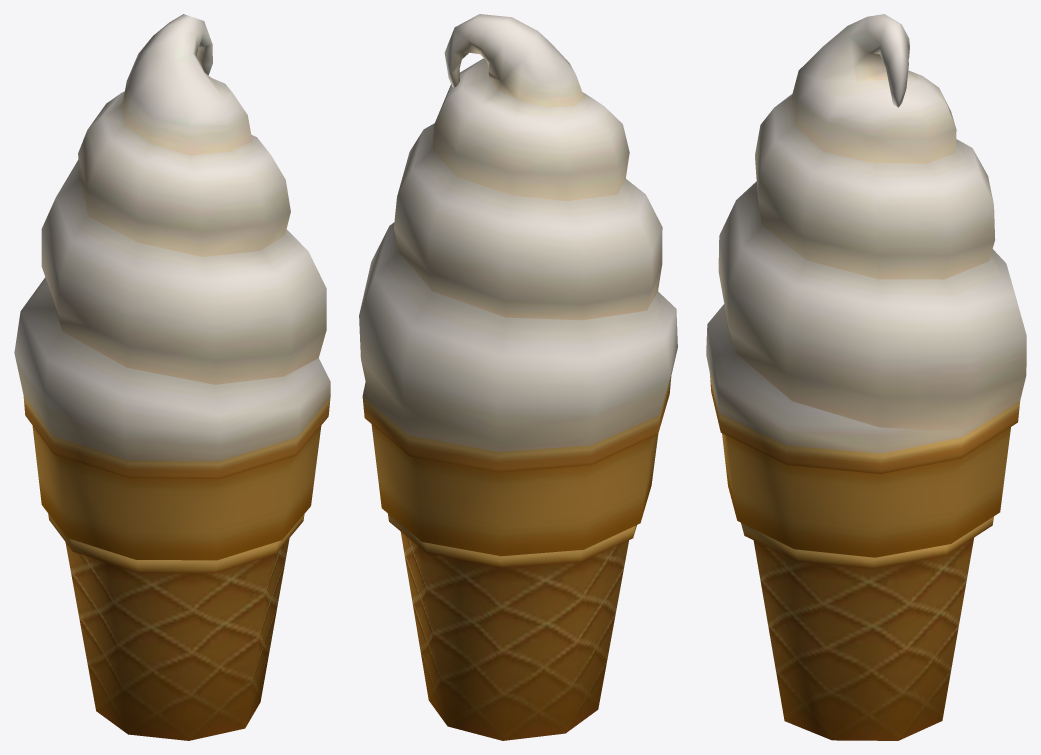
The model's file is rmk_oth_softcreame.dae.
The picture shows the model from 3 angles, left to right: view 1: azimuth 30°, elevation 25°; view 2: azimuth 150°, elevation 25°; view 3: azimuth 270°, elevation 25°; orthographic projection. The views are drawn at different scales.
Visible parts, largest first — view 1: rmk_oth_softcreame; view 2: rmk_oth_softcreame; view 3: rmk_oth_softcreame.
Boxes of the visible parts, x1,y1,x2,y2 form: rmk_oth_softcreame: (14,14,330,740); rmk_oth_softcreame: (359,14,677,740); rmk_oth_softcreame: (706,14,1026,740).
Bounding box in the file's own units: 21.05 × 49.42 × 20.66.
Materials: 1 (1 with a texture image).
